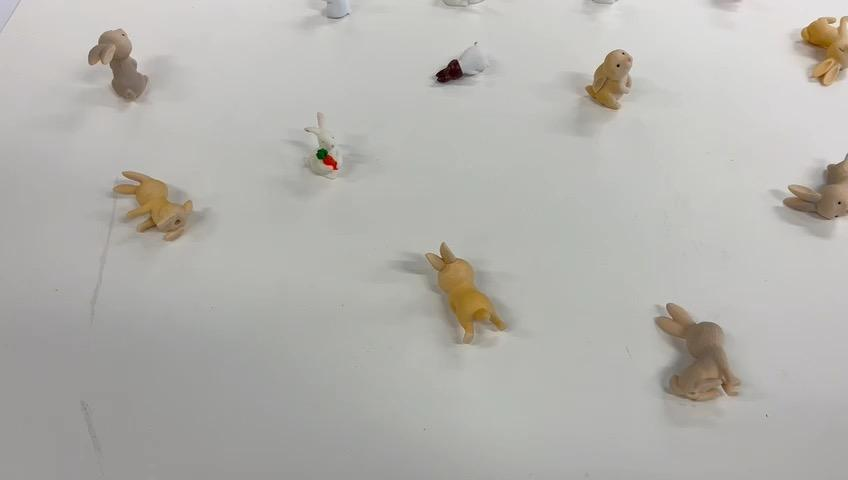pet: (383, 230, 514, 356), (643, 295, 750, 409), (78, 0, 159, 114), (98, 160, 206, 244), (571, 33, 655, 138), (763, 150, 848, 227), (786, 3, 847, 105), (286, 95, 344, 196), (428, 30, 496, 96)
